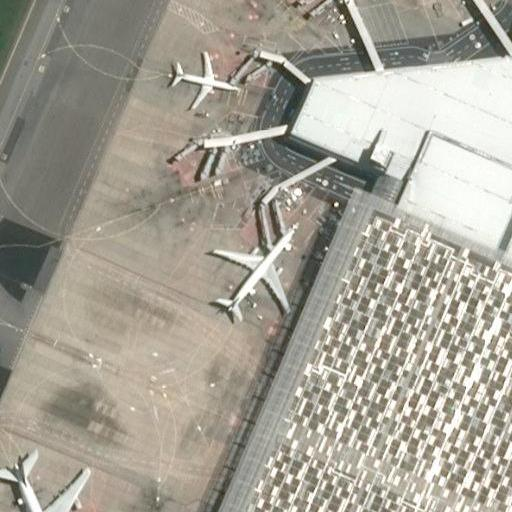Aircraft: (204, 220, 300, 324), (0, 445, 92, 512), (163, 45, 240, 110)
